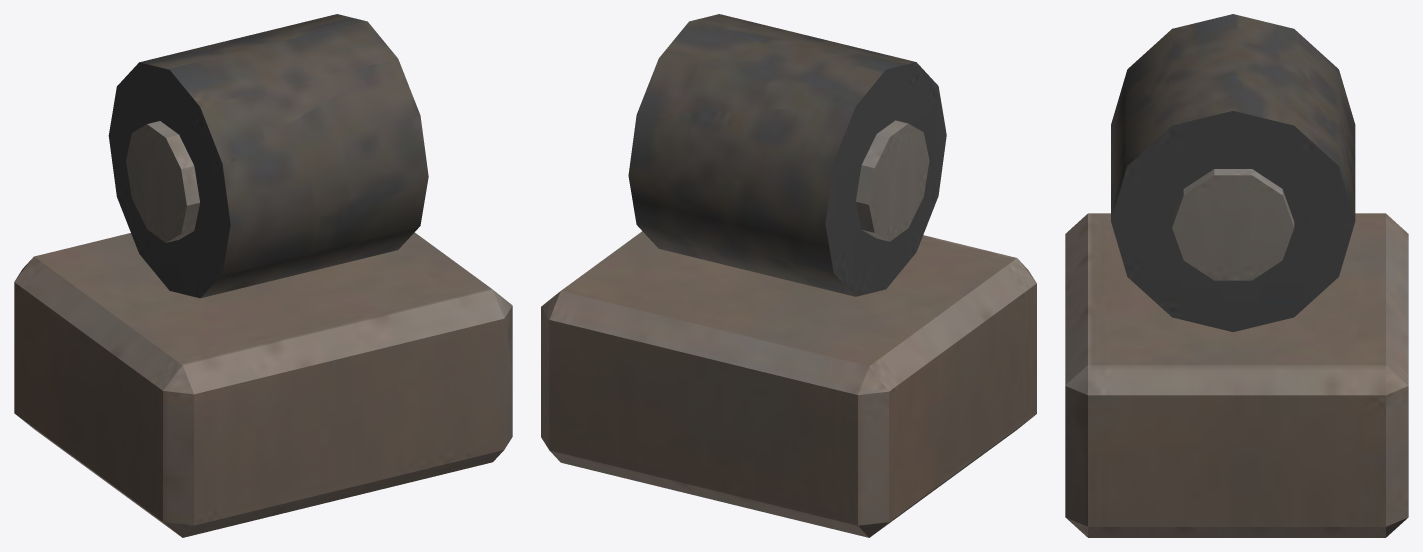
The model's file is cargo-bay-inner-ne.glb.
The picture shows the model from 3 angles, left to right: view 1: azimuth 30°, elevation 25°; view 2: azimuth 150°, elevation 25°; view 3: azimuth 270°, elevation 25°; orthographic projection.
Visible parts, largest first — view 1: body; view 2: body; view 3: body.
Part boxes in pixels (box(x1,y1,x2,y2)): body: box(14, 14, 512, 537); body: box(541, 14, 1036, 537); body: box(1065, 14, 1408, 537).
Bounding box in the file's own units: 0.53 × 0.58 × 0.45.
1 material, 1 textured.
